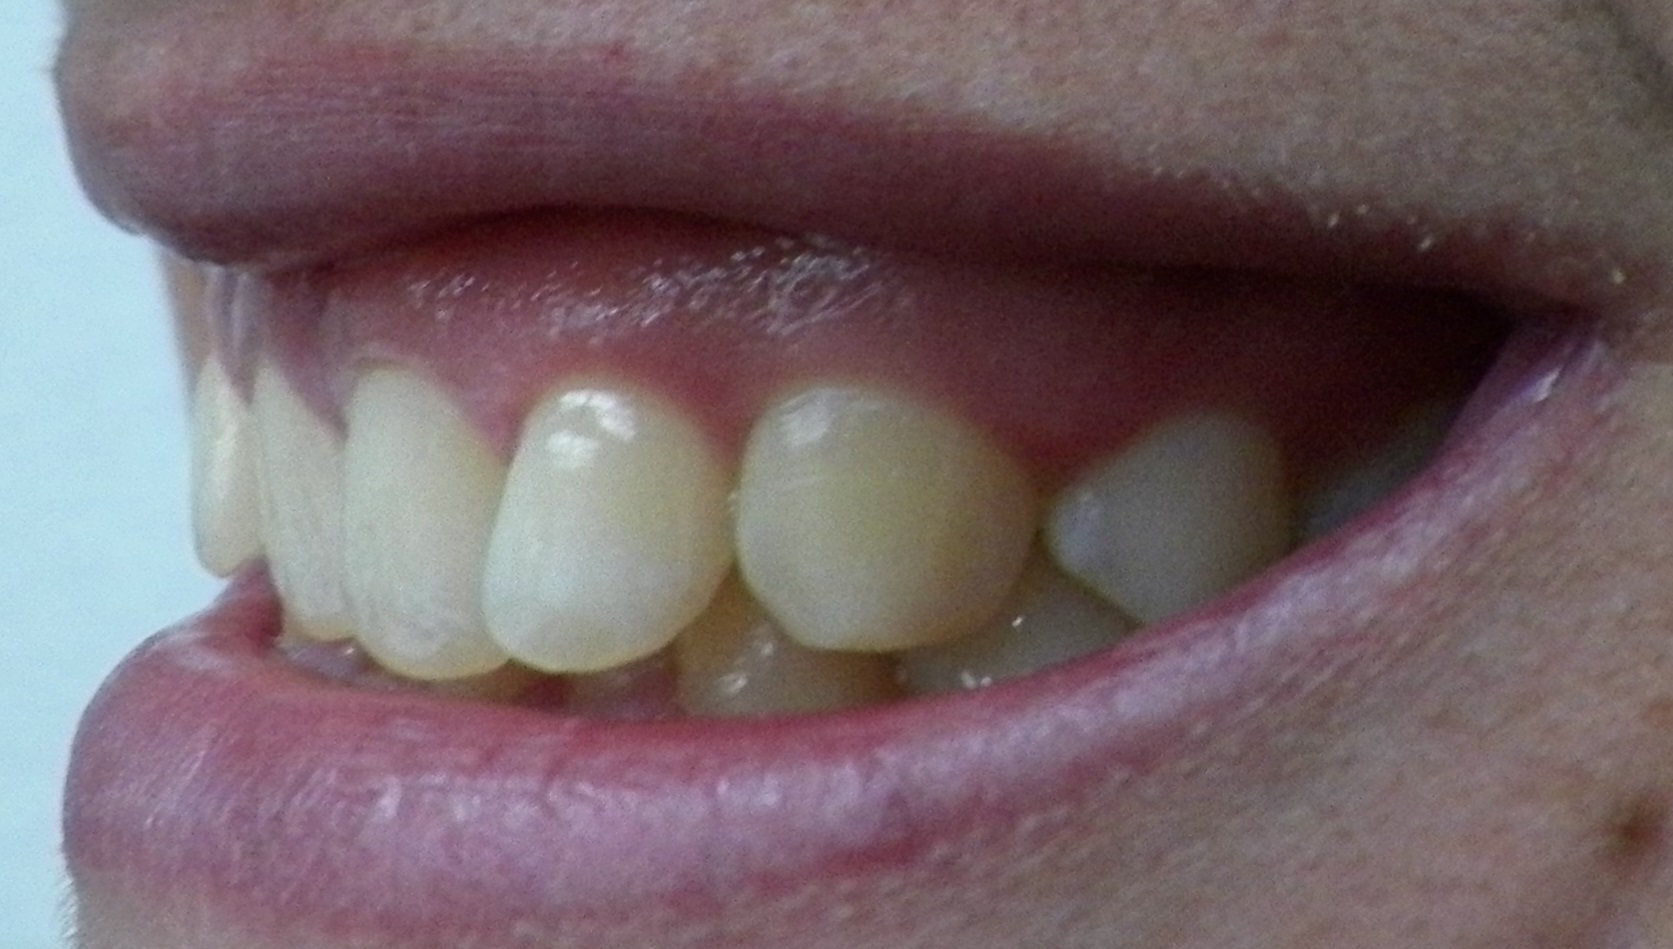boca: (184, 358, 1377, 739)
